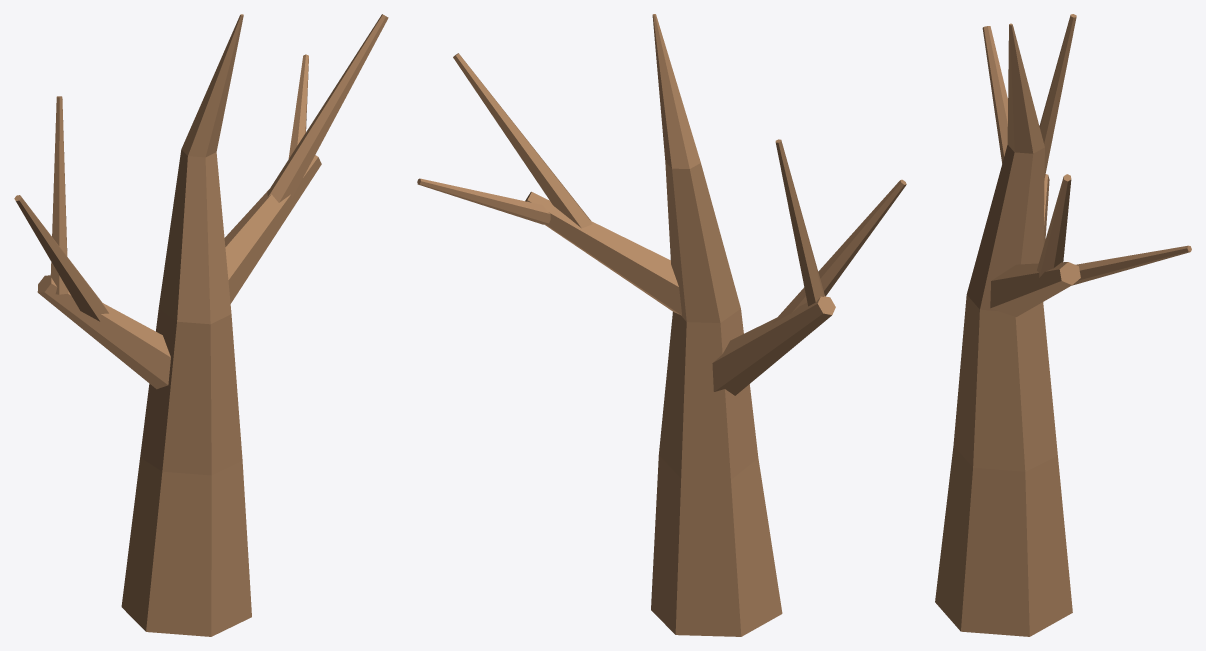
Rendered from DeadTreeTall.glb.
3 views of the same model, side by side, from view 1: azimuth 30°, elevation 25°; view 2: azimuth 150°, elevation 25°; view 3: azimuth 270°, elevation 25° (orthographic). The views are drawn at different scales.
Visible parts, largest first — view 1: DeadTreeTall_Trunk, DeadTreeTall_LeftBranch, DeadTreeTall_RightBranch, DeadTreeTall_RightSubBranch, DeadTreeTall_LeftSubBranch, DeadTreeTall_LeftTip, DeadTreeTall_RightTip; view 2: DeadTreeTall_Trunk, DeadTreeTall_RightBranch, DeadTreeTall_LeftBranch, DeadTreeTall_RightSubBranch, DeadTreeTall_LeftSubBranch, DeadTreeTall_LeftTip, DeadTreeTall_RightTip; view 3: DeadTreeTall_Trunk, DeadTreeTall_RightBranch, DeadTreeTall_LeftTip, DeadTreeTall_RightSubBranch, DeadTreeTall_RightTip, DeadTreeTall_LeftSubBranch.
Boxes of the visible parts, x1,y1,x2,y2 form: DeadTreeTall_Trunk: (121, 14, 251, 636); DeadTreeTall_LeftBranch: (37, 275, 170, 389); DeadTreeTall_RightBranch: (224, 155, 321, 303); DeadTreeTall_RightSubBranch: (267, 14, 388, 202); DeadTreeTall_LeftSubBranch: (14, 195, 108, 321); DeadTreeTall_LeftTip: (50, 96, 68, 294); DeadTreeTall_RightTip: (288, 54, 308, 158); DeadTreeTall_Trunk: (651, 14, 782, 636); DeadTreeTall_RightBranch: (525, 191, 681, 315); DeadTreeTall_LeftBranch: (712, 296, 835, 395); DeadTreeTall_RightSubBranch: (453, 53, 592, 228); DeadTreeTall_LeftSubBranch: (772, 179, 906, 323); DeadTreeTall_LeftTip: (775, 139, 824, 306); DeadTreeTall_RightTip: (417, 178, 550, 224); DeadTreeTall_Trunk: (935, 23, 1072, 636); DeadTreeTall_RightBranch: (990, 262, 1080, 316); DeadTreeTall_LeftTip: (1039, 14, 1076, 177); DeadTreeTall_RightSubBranch: (1037, 174, 1071, 277); DeadTreeTall_RightTip: (1072, 245, 1191, 285); DeadTreeTall_LeftSubBranch: (982, 26, 1007, 163).
Bounding box in the file's own units: 1.44 × 1.95 × 0.7377.
